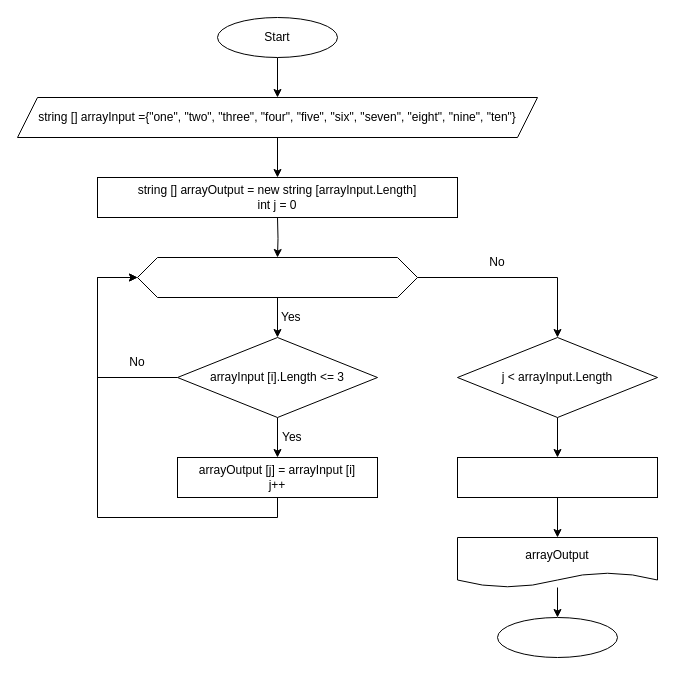
Image size: 675x675. Some labels were removed from this diagram. Here are the shapes that lost their labels. From the top down, the centre of each, then its label:
At pixel 277 277: "int i = 0; i < arrayInput.Length; i++".
At pixel 557 477: "delete [] arrayOutput".
At pixel 557 637: "End".
